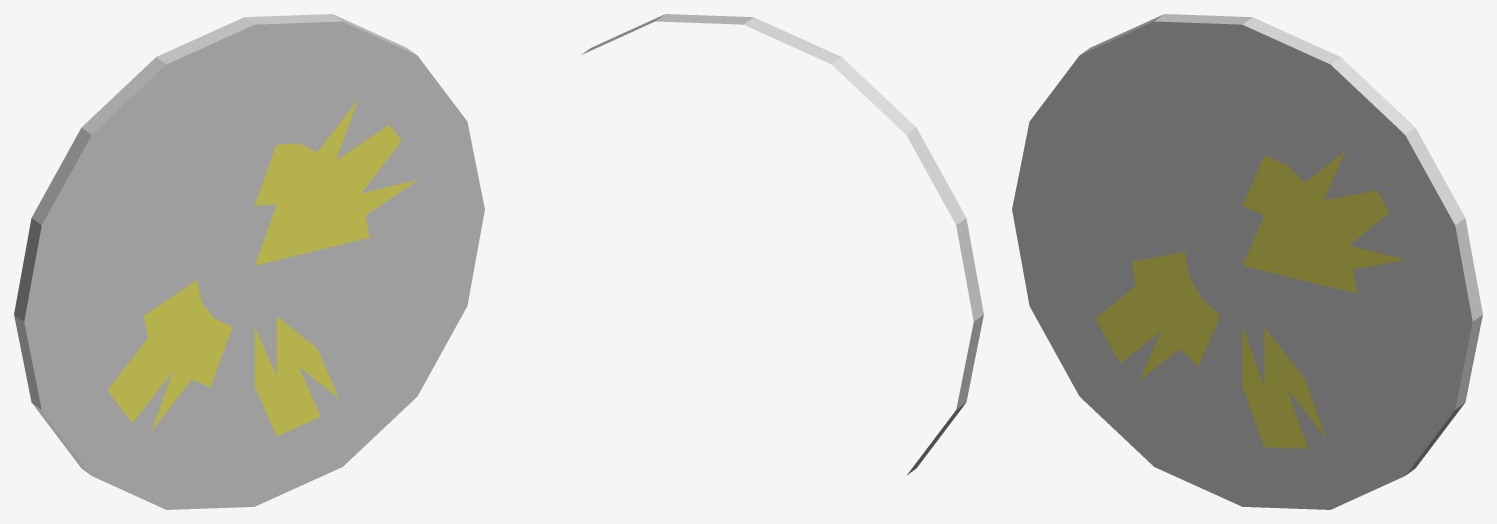
File: moon.glb
3 renders of one model, left to right at view 1: azimuth 30°, elevation 25°; view 2: azimuth 150°, elevation 25°; view 3: azimuth 330°, elevation 25°, orthographic.
Parts seen in each view (by area): view 1: Moon; view 2: Moon; view 3: Moon.
Boxes of the visible parts, x1,y1,x2,y2 form: Moon: (14,14,484,509); Moon: (581,14,983,474); Moon: (1012,14,1482,509).
Bounding box in the file's own units: 5.2 × 5.2 × 0.2.
